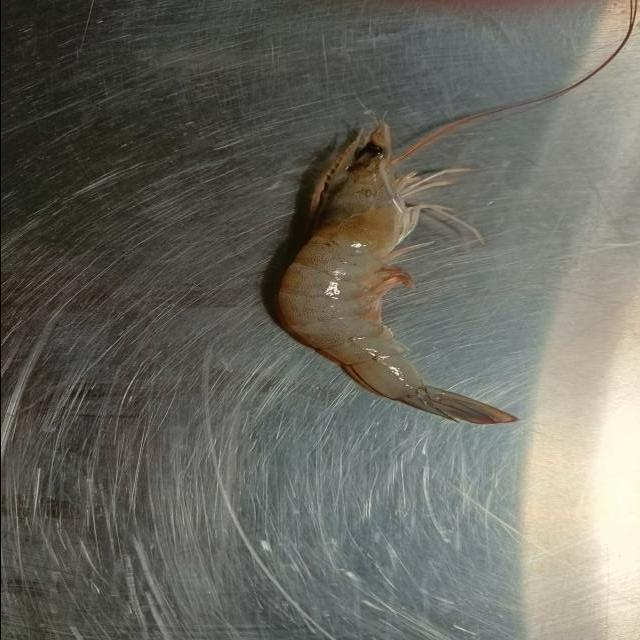shrimp: (276, 121, 521, 424)
